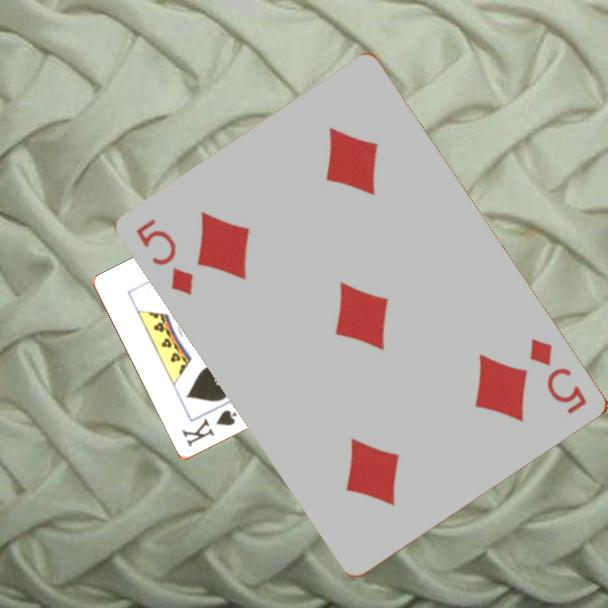d05: (132, 215, 197, 298), (526, 335, 590, 418)
s13: (178, 406, 240, 450)
